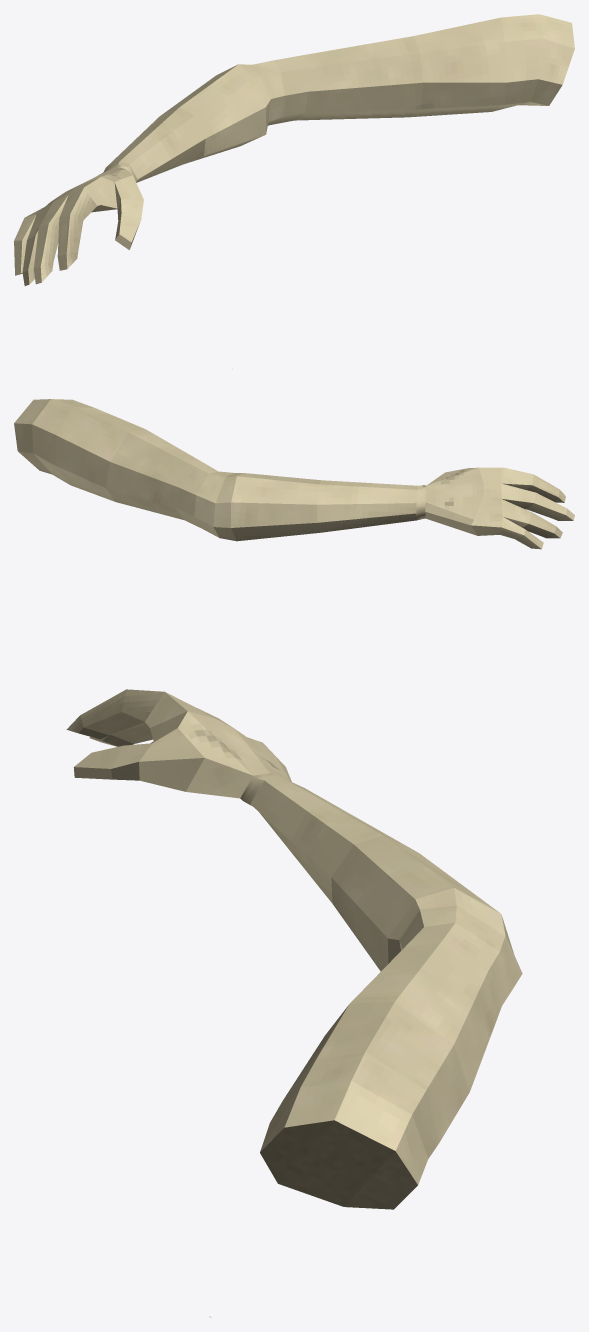
The model's file is mannequin_arm.fbx.
The picture shows the model from 3 angles, top to bottom: view 1: azimuth 30°, elevation 25°; view 2: azimuth 150°, elevation 25°; view 3: azimuth 270°, elevation 25°; orthographic projection. The views are drawn at different scales.
Visible parts, largest first — view 1: arm; view 2: arm; view 3: arm.
Part boxes in pixels (x1,y1,x2,y2): arm: [14, 14, 574, 285]; arm: [14, 399, 574, 549]; arm: [66, 689, 522, 1209].
Bounding box in the file's own units: 89.3 × 37.03 × 36.3.
Materials: 4 (4 with a texture image).
